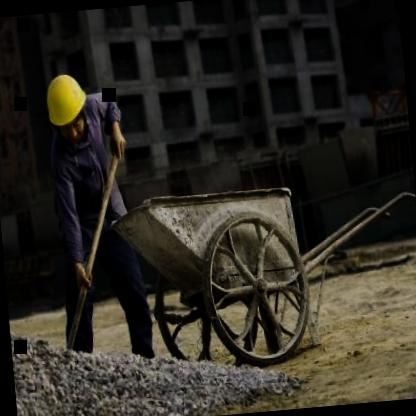helmet: (39, 61, 94, 150)
